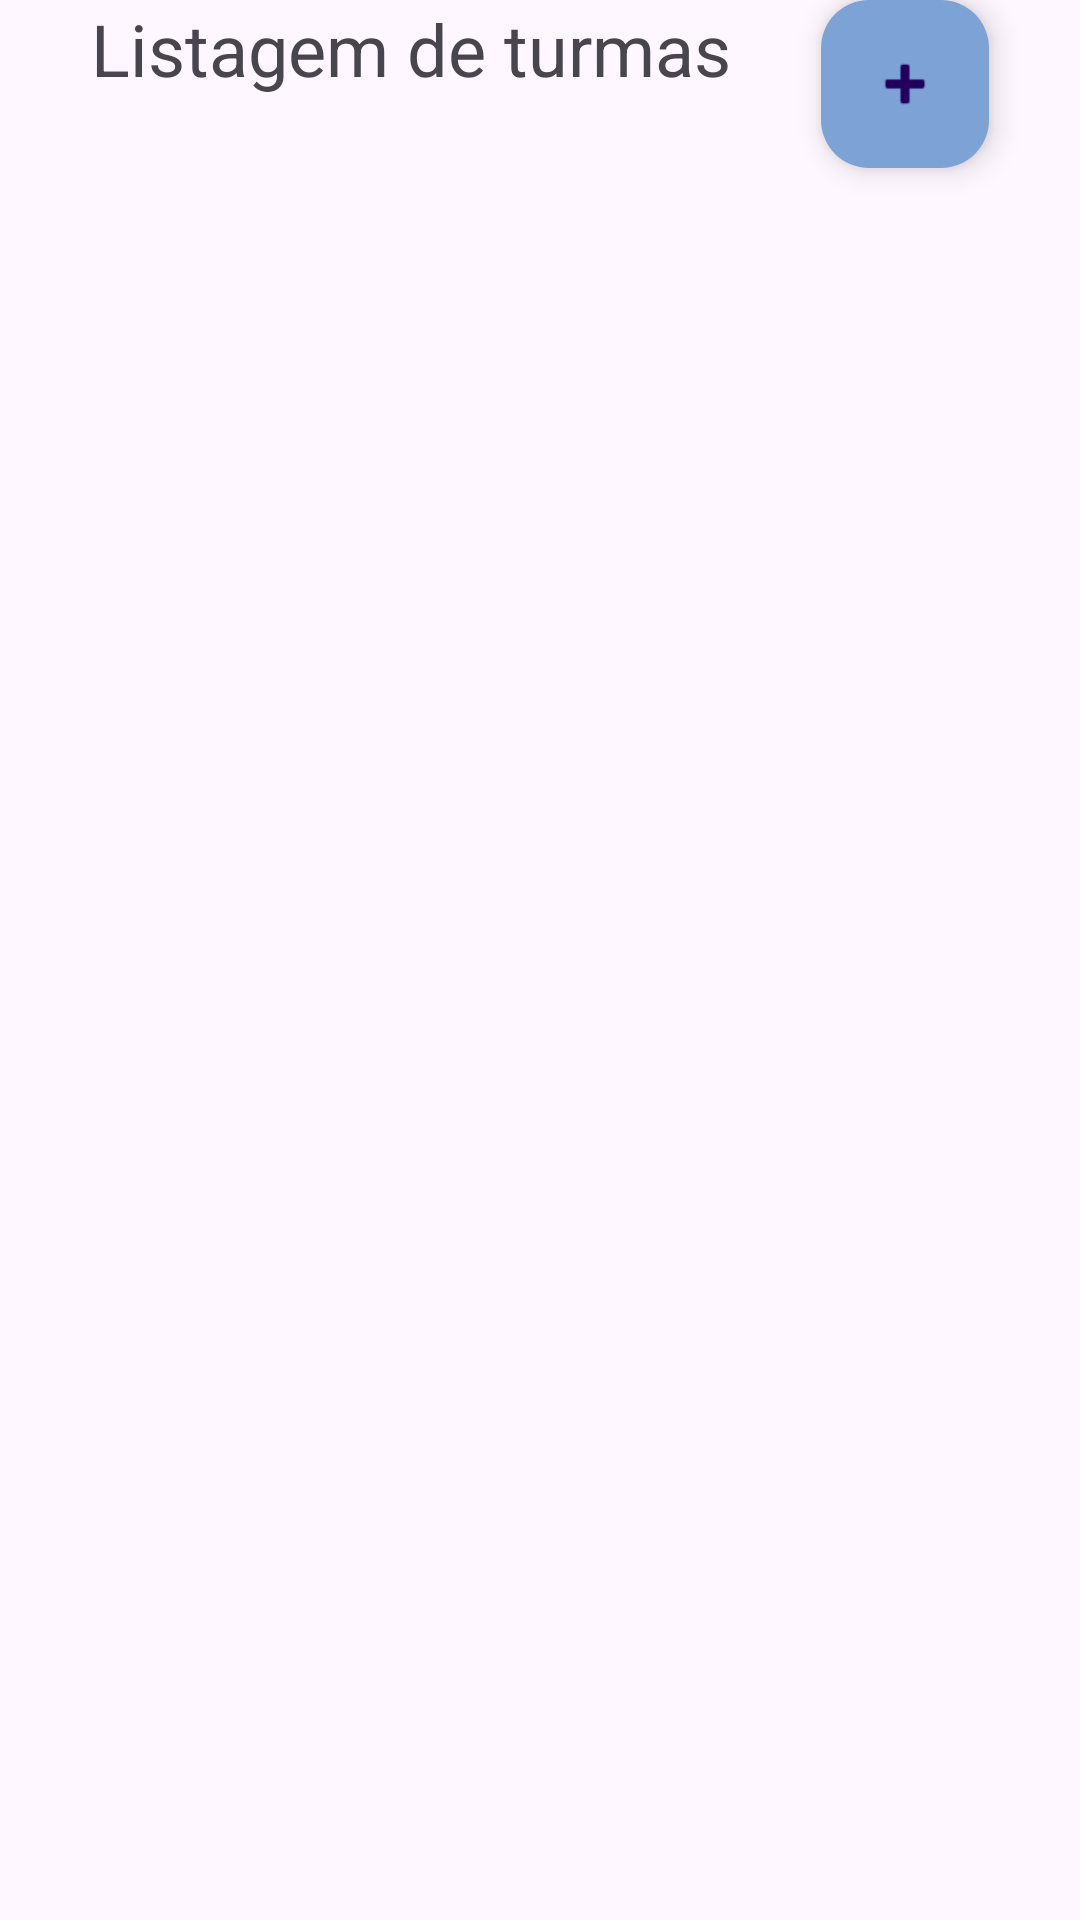

Screen size 1080×1920. Icon name, then its box in pixels as (left=x1, top=y1, right=x2, bottom=y2):
add: (left=821, top=0, right=989, bottom=168)
